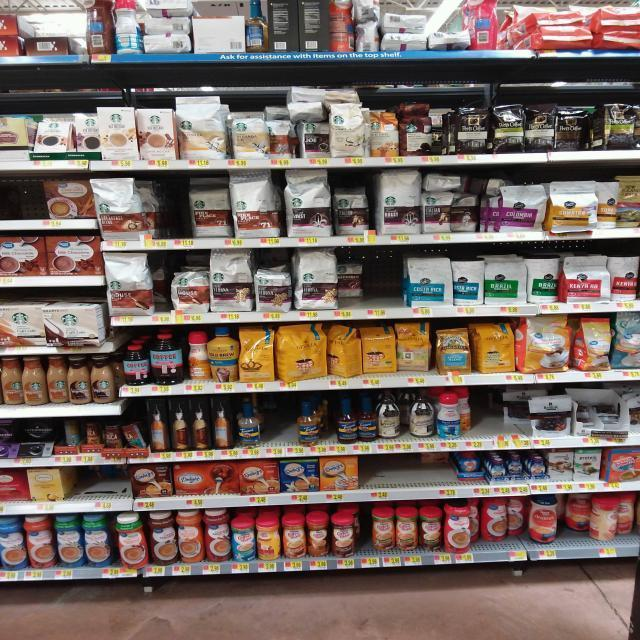Imprecise: (473, 496, 531, 552), (329, 184, 375, 235), (558, 492, 594, 548), (338, 258, 368, 306), (417, 452, 455, 488), (618, 489, 640, 549), (450, 192, 480, 235)
